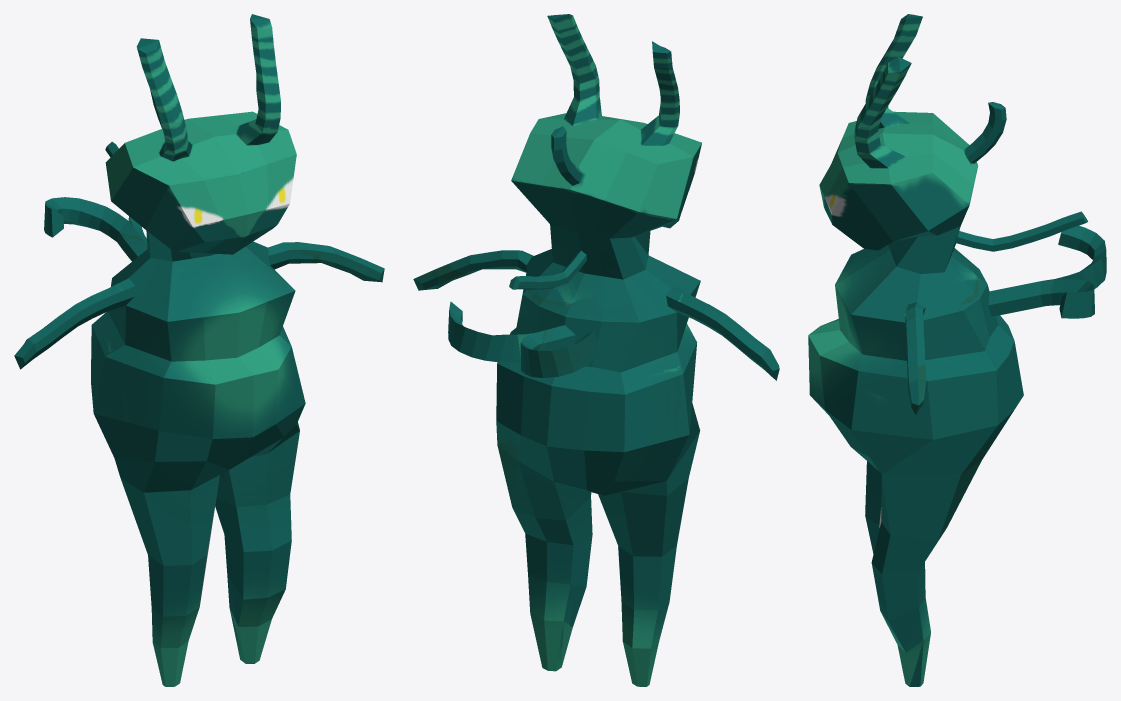
The model's file is enemigo1.obj.
The picture shows the model from 3 angles, left to right: view 1: azimuth 30°, elevation 25°; view 2: azimuth 150°, elevation 25°; view 3: azimuth 270°, elevation 25°; orthographic projection. The views are drawn at different scales.
Parts seen in each view (by area): view 1: Monstruo_basico; view 2: Monstruo_basico; view 3: Monstruo_basico.
Boxes of the visible parts, box(x1,y1,x2,y2) form: Monstruo_basico: box(14, 14, 384, 686); Monstruo_basico: box(413, 14, 779, 686); Monstruo_basico: box(808, 14, 1106, 686).
Bounding box in the file's own units: 1.3 × 2.2 × 0.9534.
